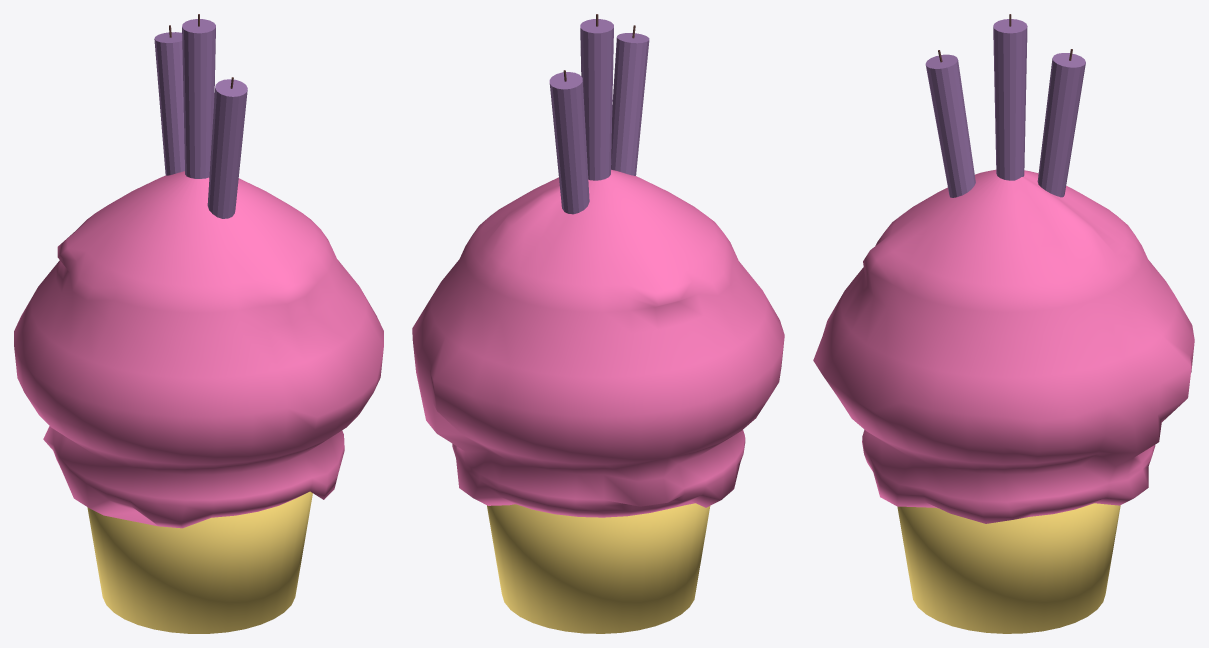
The model's file is Kap_Kek.fbx.
The picture shows the model from 3 angles, left to right: view 1: azimuth 30°, elevation 25°; view 2: azimuth 150°, elevation 25°; view 3: azimuth 270°, elevation 25°; orthographic projection.
Visible parts, largest first — view 1: Cylinder; view 2: Cylinder; view 3: Cylinder.
Part boxes in pixels (bbox=[...]): Cylinder: bbox=[14, 14, 383, 633]; Cylinder: bbox=[412, 14, 784, 633]; Cylinder: bbox=[813, 14, 1194, 633].
Size of the model in its own units: 1067 by 1826 by 1091.
